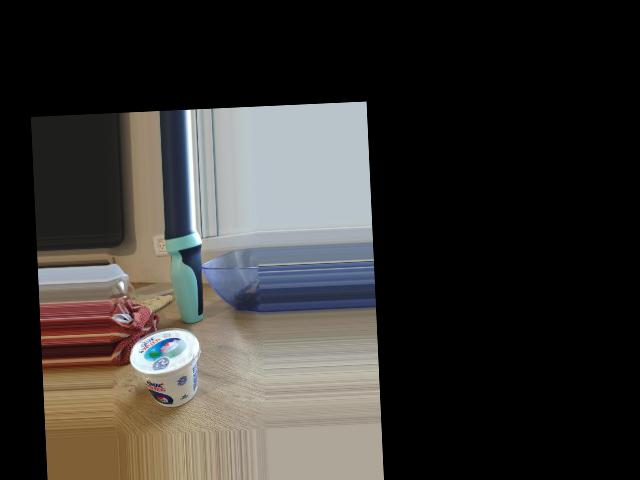cotage: (139, 321, 206, 412)
